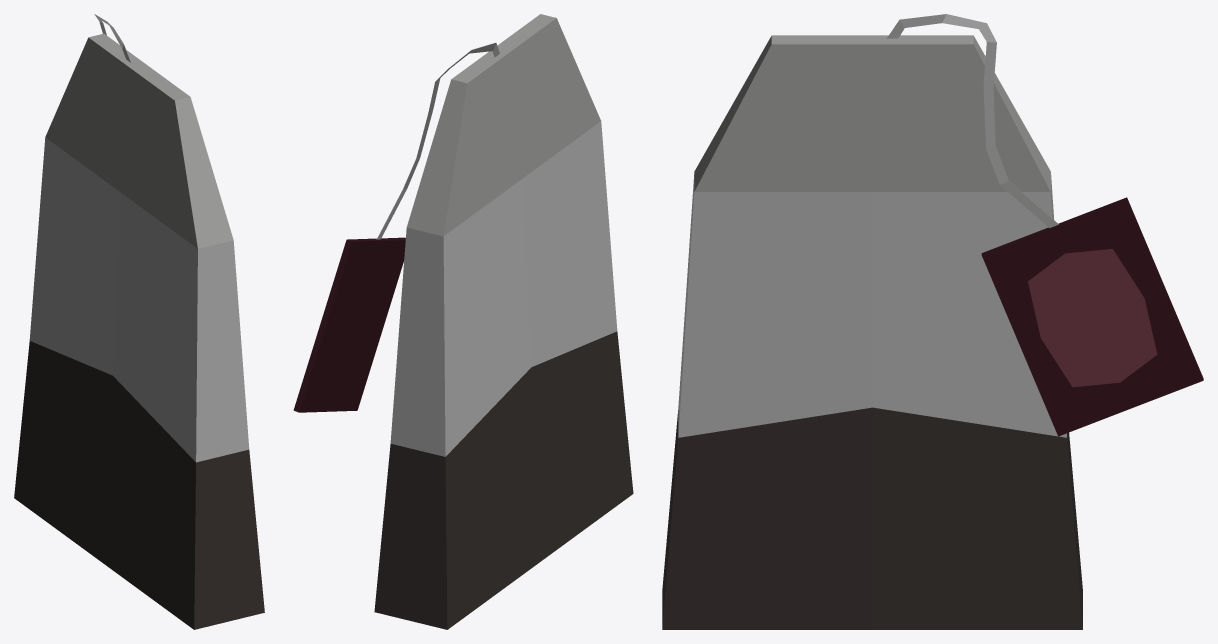
The model's file is tea.fbx.
3 views of the same model, side by side, from view 1: azimuth 30°, elevation 25°; view 2: azimuth 150°, elevation 25°; view 3: azimuth 270°, elevation 25° (orthographic). The views are drawn at different scales.
Parts seen in each view (by area): view 1: Tea; view 2: Tea; view 3: Tea.
Part boxes in pixels (x1=…): Tea: x1=14, y1=14, x2=264, y2=629; Tea: x1=293, y1=14, x2=633, y2=629; Tea: x1=662, y1=14, x2=1203, y2=629.
Bounding box in the file's own units: 87.73 × 415 × 341.
